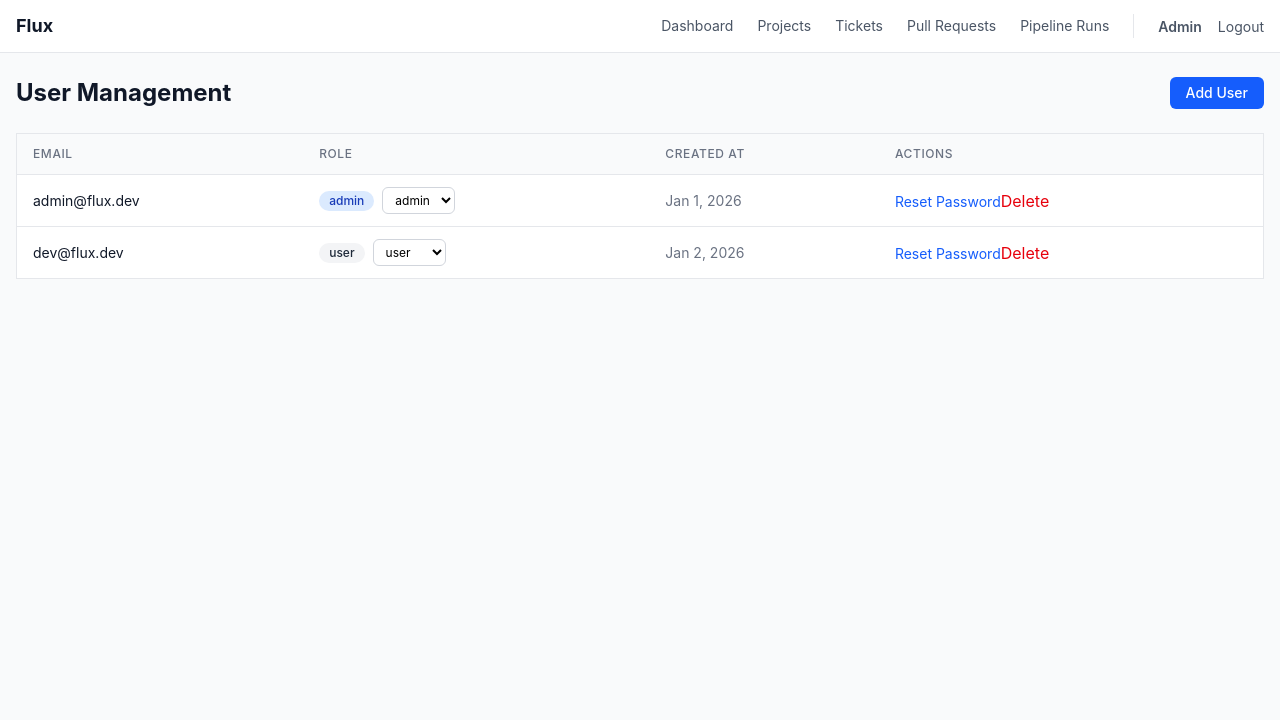
AdminUsersPage › deletes a user after confirmation
This screenshot has width=1280, height=720.
Expected: the text "dev@flux.dev" is shown, [16,226,303,278]
Click the button with aria-label "delete dev@flux.dev" at (1025, 252), box [1001,240,1049,264]
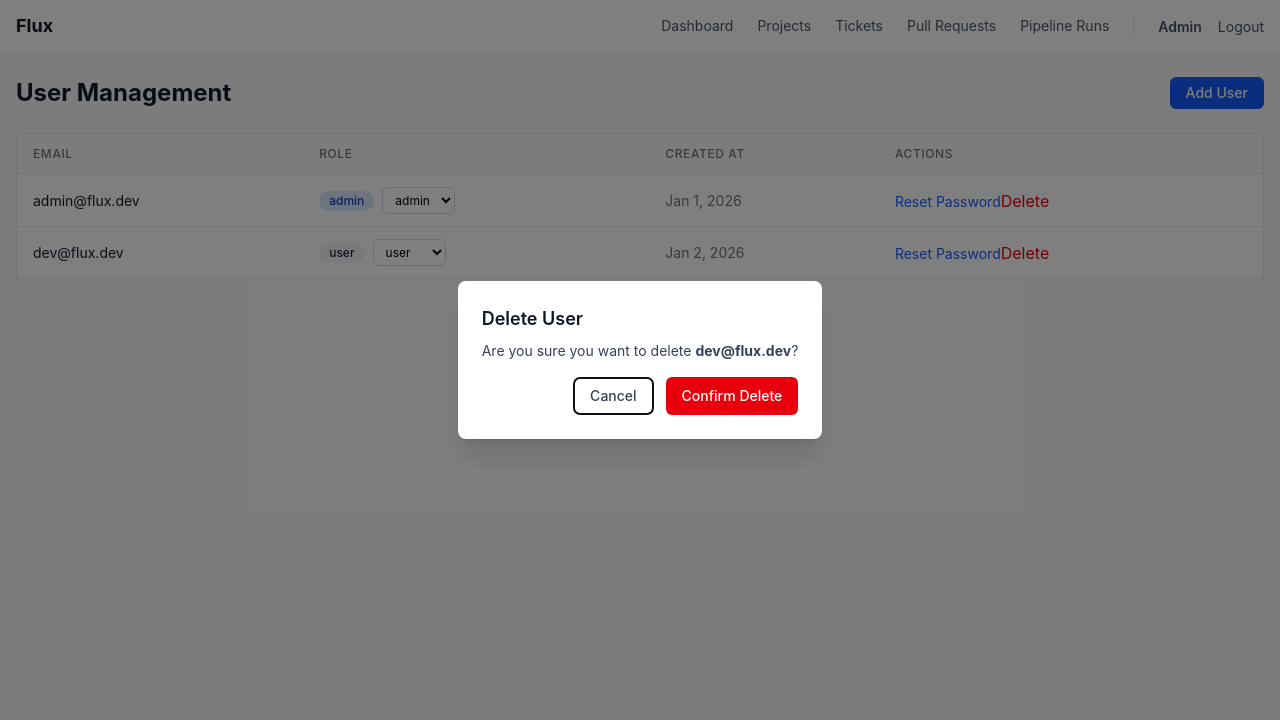
Now the button "Confirm Delete" is shown
Click the button "Confirm Delete" at (732, 396), box [666,377,798,415]
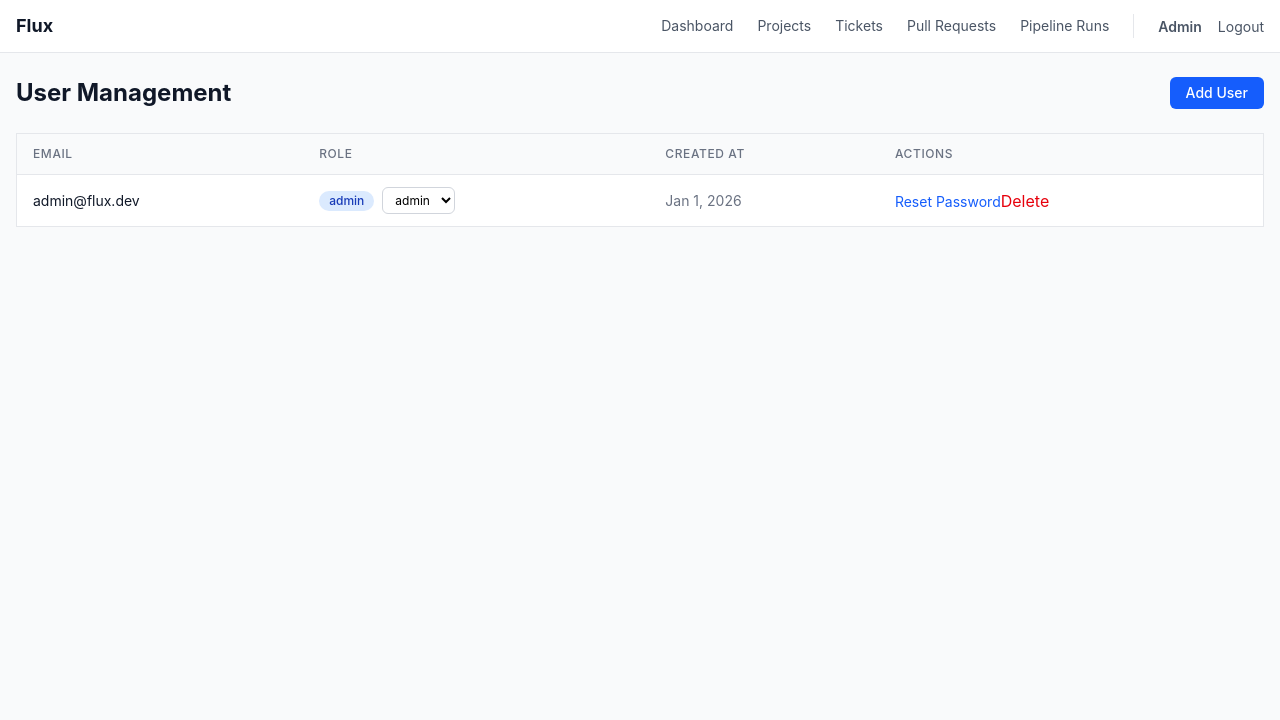
Expected: the text "admin@flux.dev" is shown, [16,174,303,226]
Now the text "dev@flux.dev" is gone
